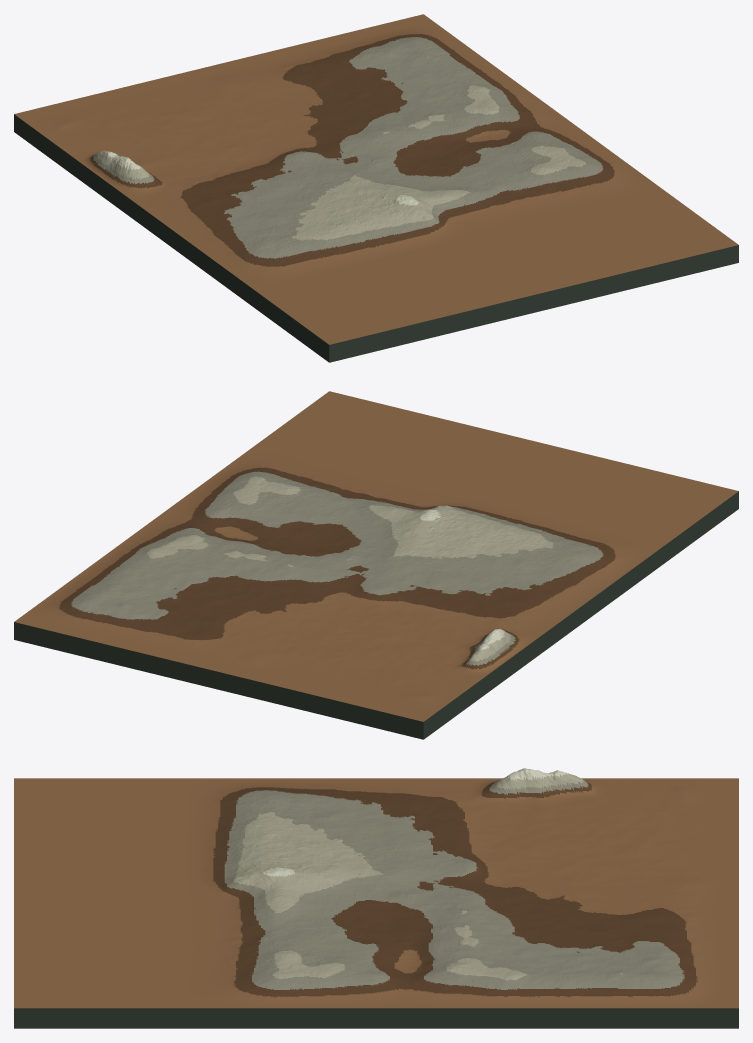
File: adtg_d75.dae
3 views of the same model, one above another, from view 1: azimuth 30°, elevation 25°; view 2: azimuth 150°, elevation 25°; view 3: azimuth 270°, elevation 25° (orthographic). The views are drawn at different scales.
Parts seen in each view (by area): view 1: terrain_node; view 2: terrain_node; view 3: terrain_node.
Part boxes in pixels (left/top/right/bottom): terrain_node: left=14, top=14, right=738, bottom=362; terrain_node: left=14, top=391, right=738, bottom=739; terrain_node: left=14, top=768, right=738, bottom=1028.
Size of the model in its own units: 6 by 8 by 0.5115.
